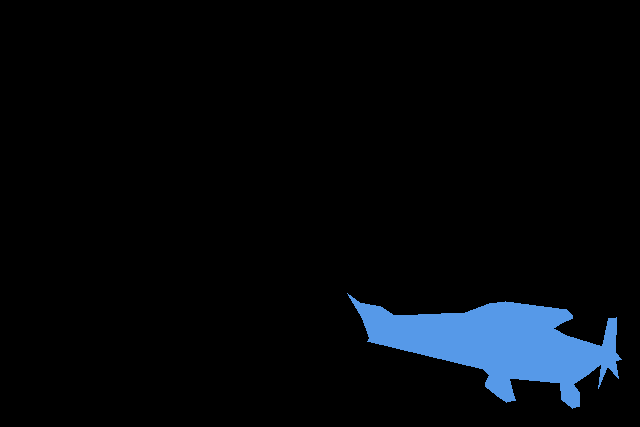Airplane: (347, 293, 621, 408)
